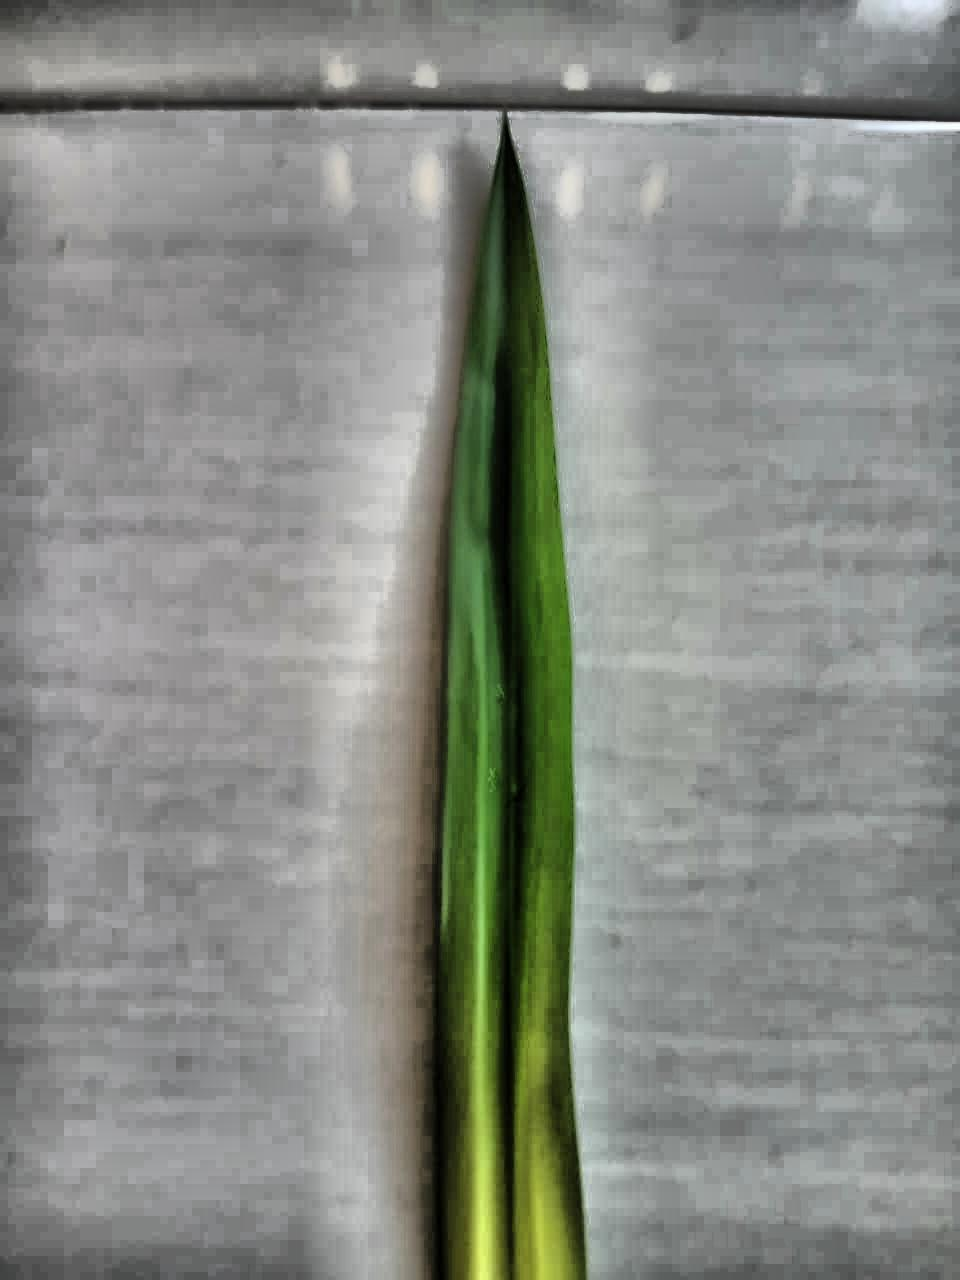daun pandan: (435, 121, 585, 1279)
